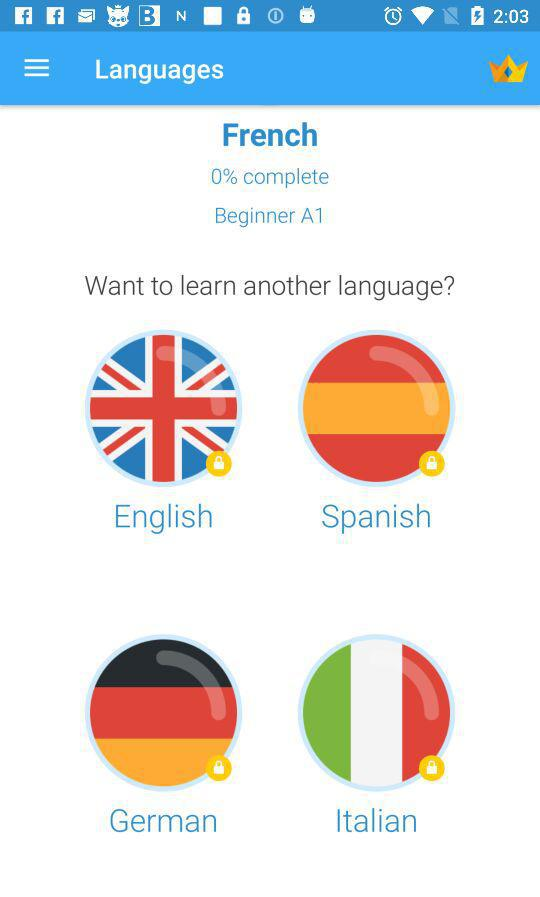Icon: (24, 59, 51, 78)
Image: (298, 634, 456, 792), (85, 634, 243, 792), (85, 330, 243, 488), (298, 330, 456, 487), (488, 56, 529, 84)
Text: (85, 275, 455, 302), (322, 503, 431, 535), (96, 60, 225, 86), (116, 503, 213, 535), (111, 808, 218, 833), (211, 168, 330, 189), (223, 122, 318, 148), (216, 207, 323, 229), (337, 807, 417, 833)
Toolbar: (1, 33, 540, 105)
UpperTaskBar: (1, 1, 540, 33)
